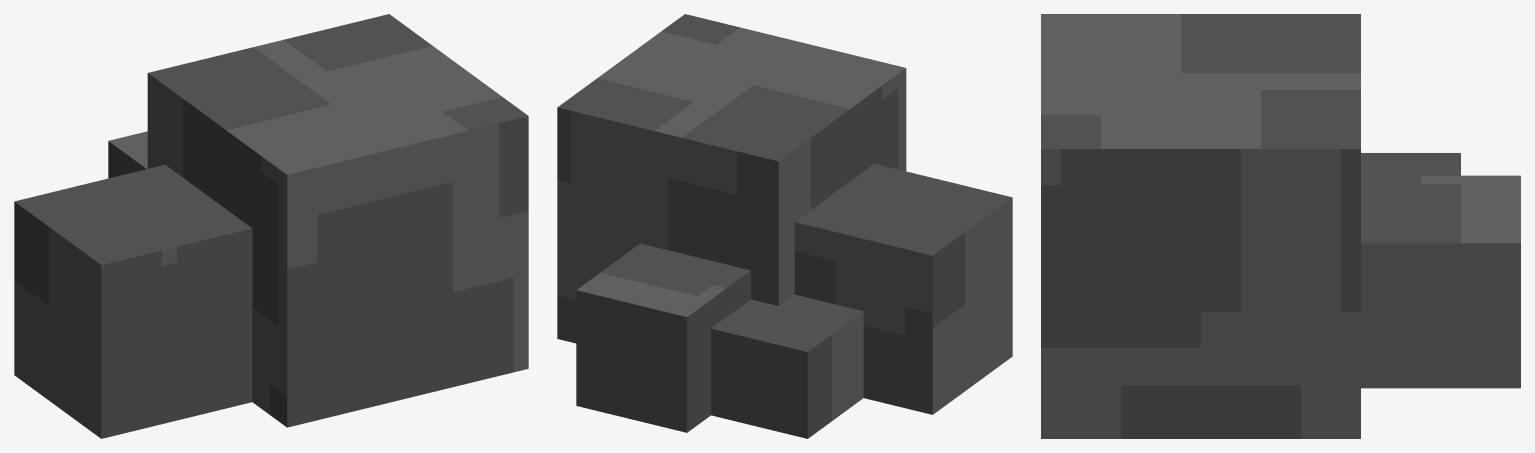
Rendered from Rock1.obj.
3 views of the same model, side by side, from view 1: azimuth 30°, elevation 25°; view 2: azimuth 150°, elevation 25°; view 3: azimuth 270°, elevation 25° (orthographic). The views are drawn at different scales.
Visible parts, largest first — view 1: mesh; view 2: mesh; view 3: mesh.
Part boxes in pixels (x1,y1,x2,y2): mesh: (14,14,528,438); mesh: (557,14,1012,438); mesh: (1041,14,1520,438).
Size of the model in its own units: 1.62 by 1 by 1.5.
1 material, 1 textured.
